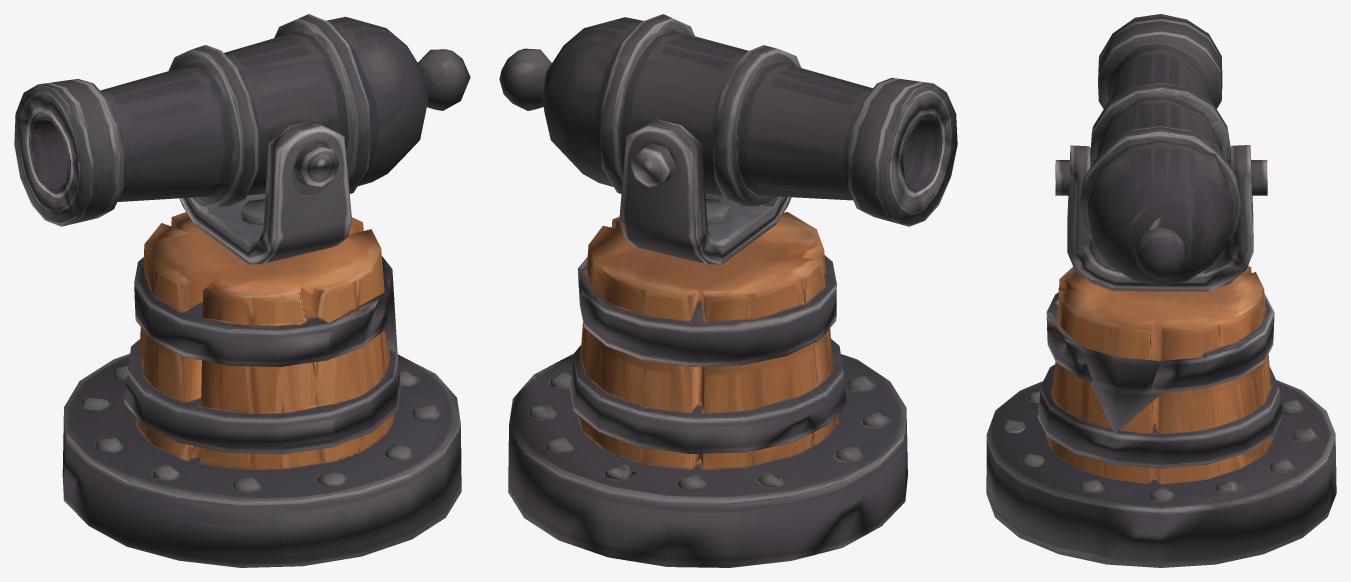
Rendered from meshy-chunky-post-1000.glb.
3 views of the same model, side by side, from view 1: azimuth 30°, elevation 25°; view 2: azimuth 150°, elevation 25°; view 3: azimuth 270°, elevation 25° (orthographic). The views are drawn at different scales.
Bounding box in the file's own units: 0.9888 × 1 × 0.814.
1 material, 1 textured.
